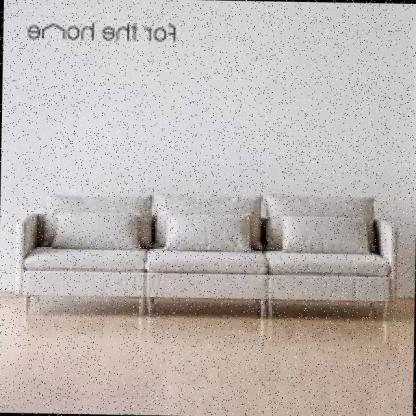Sofa: (9, 160, 402, 337)
